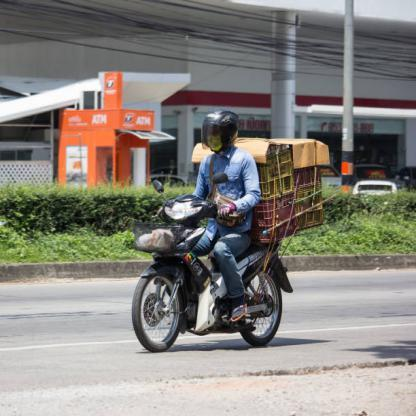Motorcycle: (125, 186, 291, 356)
